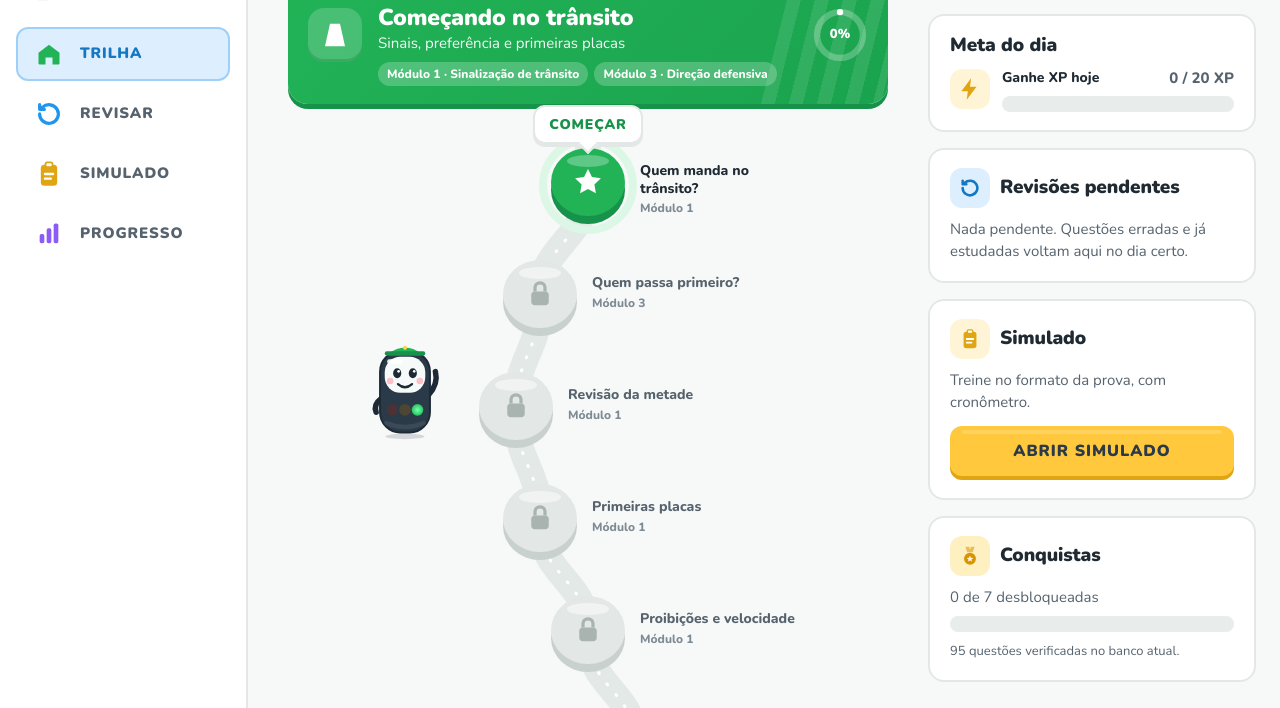
Test case: fluxo principal › simulado entregue em branco mostra o desempenho por módulo de referência
Click the button "Simulado". click: (123, 174)
box: [16,146,230,200]
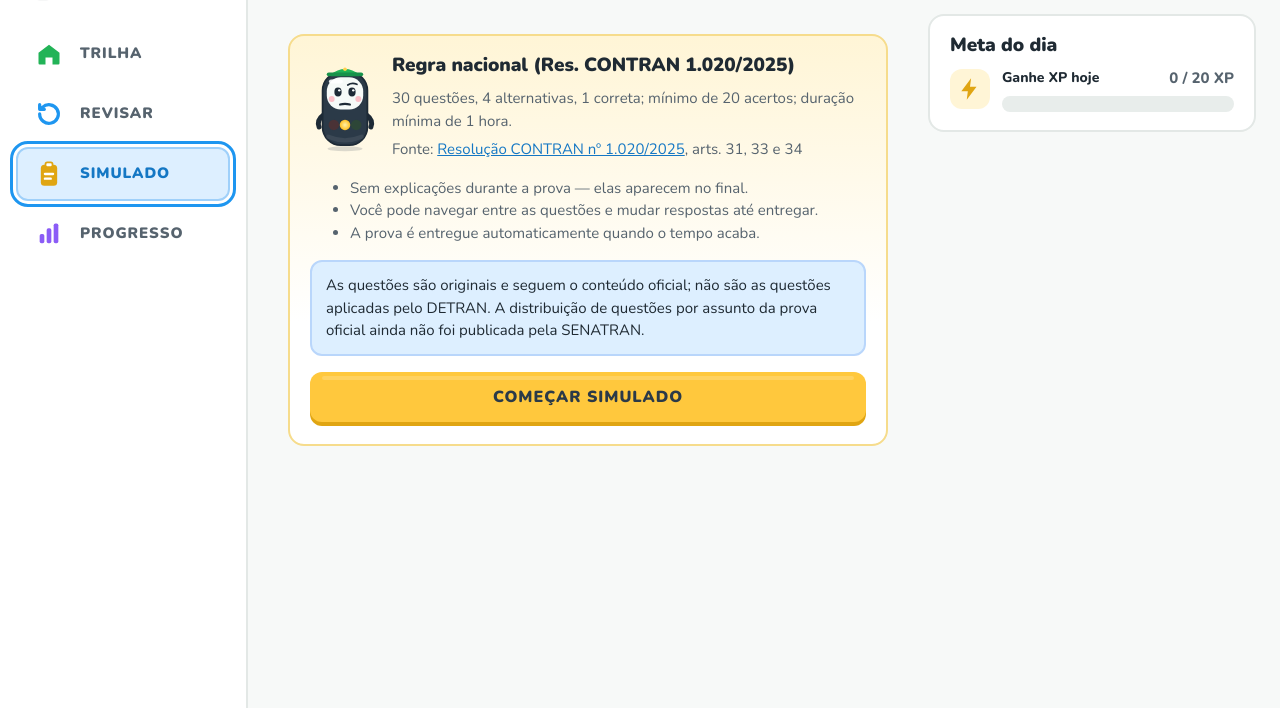
Click the button "Começar simulado". click: (588, 397)
box: [310,372,866,422]
(page scrolled)
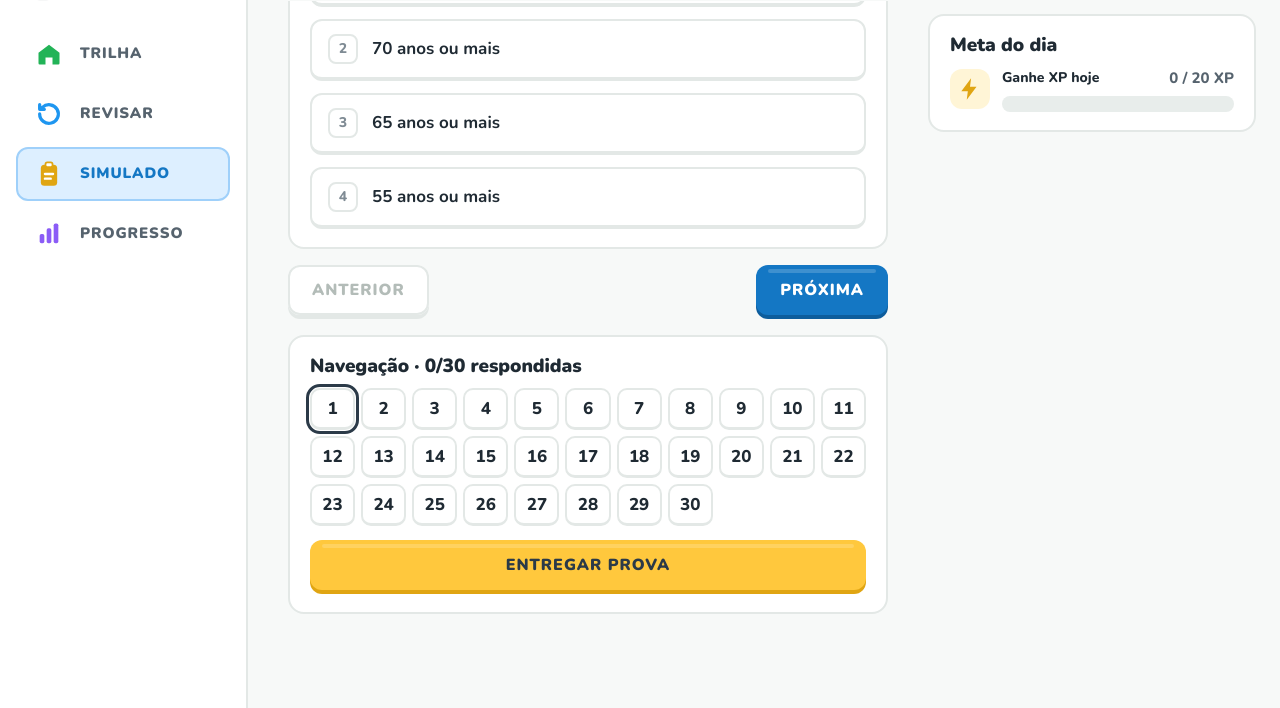
Click the button "Entregar prova". click: (588, 565)
box: [310,540,866,590]
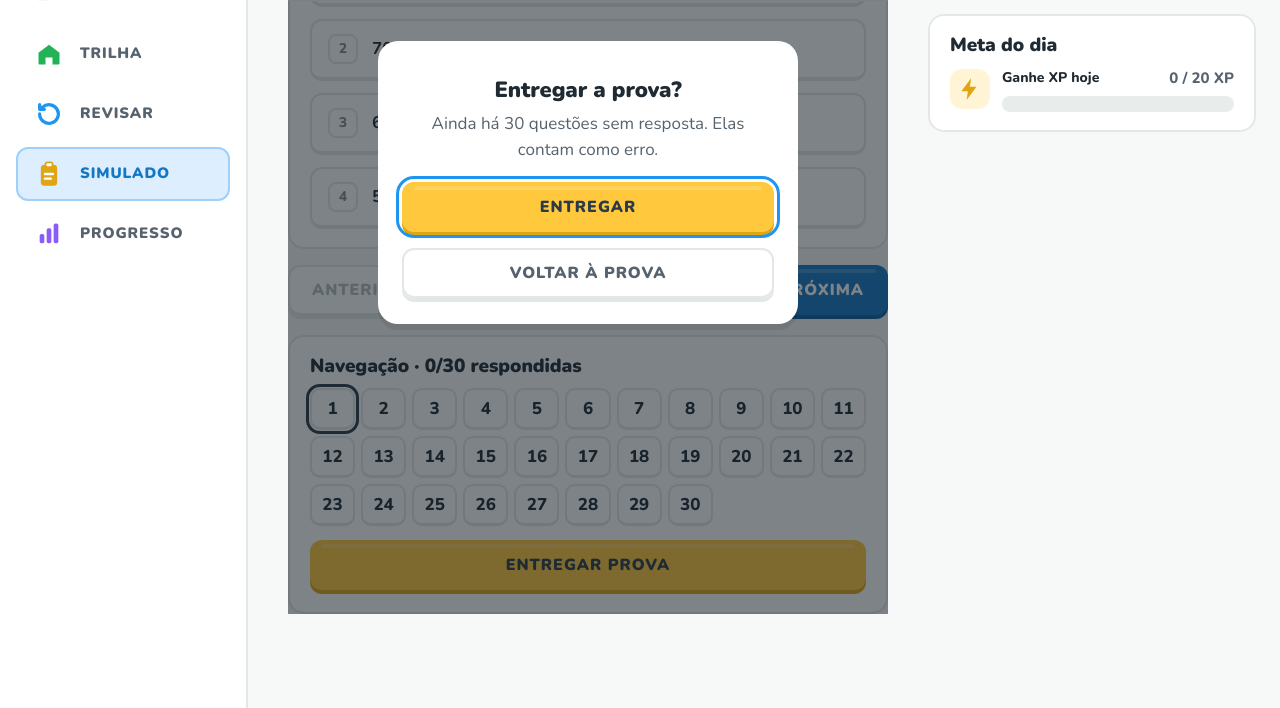
Click the button "Entregar". click: (588, 207)
box: [402,182,774,232]
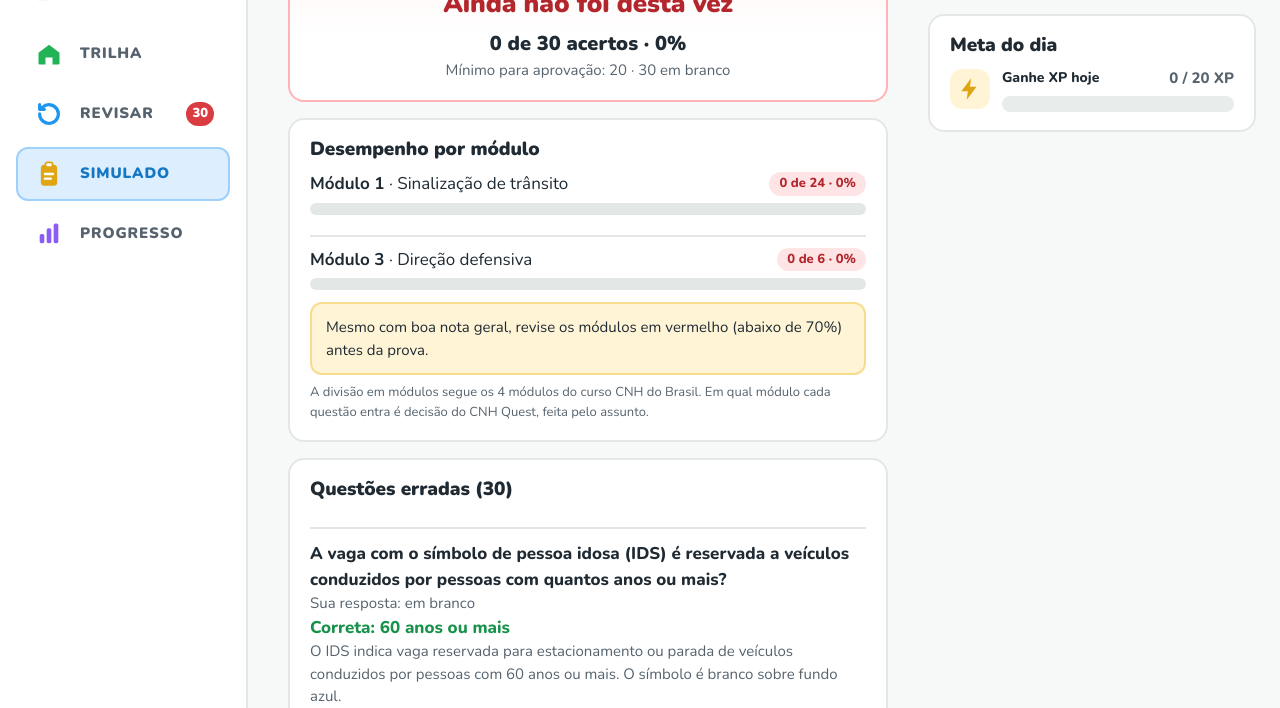
Expected: the text "Módulo 1" is shown, [310,172,384,195]
Expected: the progress indicator named "Módulo 1: 0% de acertos" is shown, [310,202,866,214]
Expected: the text "decisão do CNH Quest" is shown, [310,383,831,420]
